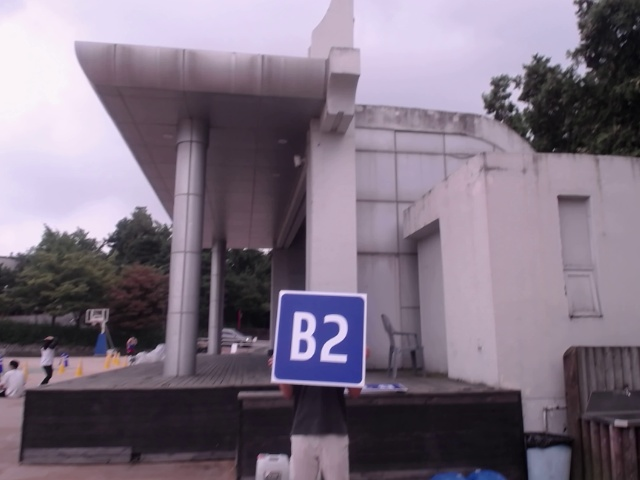delivery_b2: (276, 290, 367, 386)
